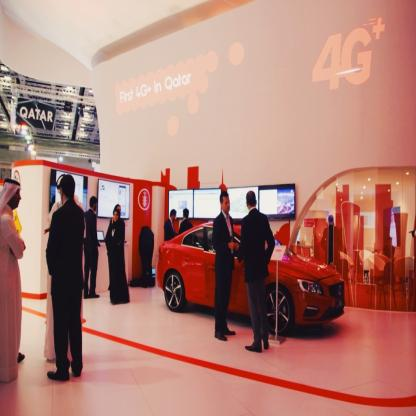Car: (156, 221, 348, 336)
